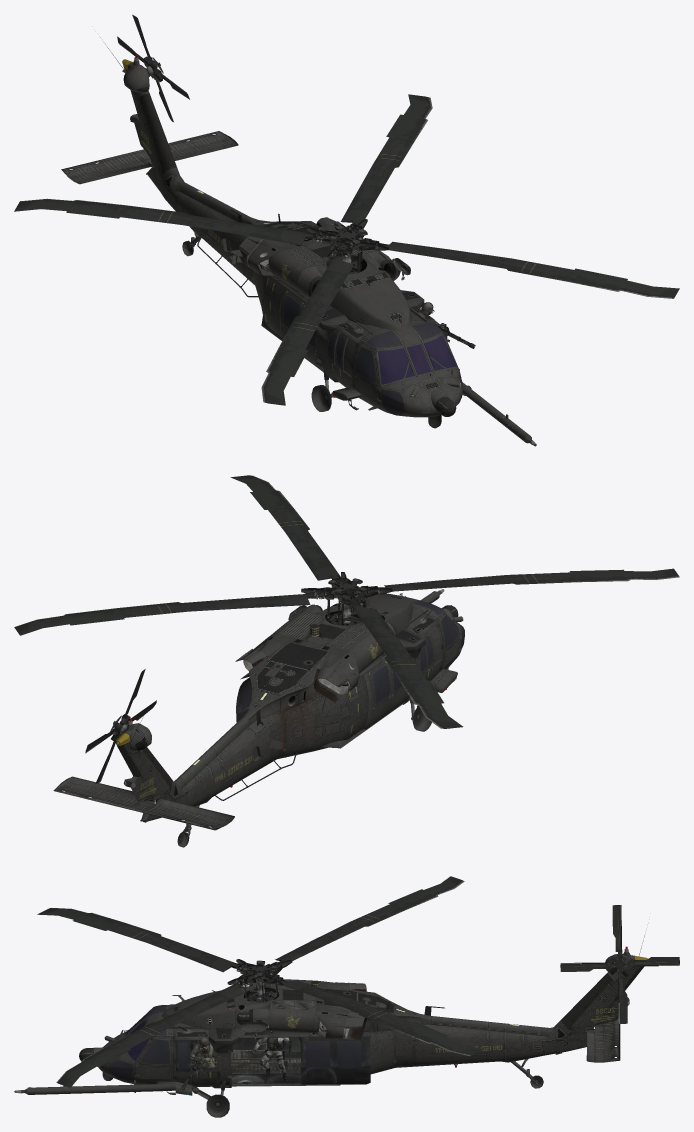
Rendered from mh-60l-blackhawk.glb.
3 renders of one model, top to bottom at view 1: azimuth 30°, elevation 25°; view 2: azimuth 150°, elevation 25°; view 3: azimuth 270°, elevation 25°, orthographic. The views are drawn at different scales.
Parts seen in each view (by area): view 1: crew_Chopper Body_0; view 2: crew_Chopper Body_0; view 3: crew_Chopper Body_0, mg_Gun_0, crew_Body-2_0.
Boxes of the visible parts, x1,y1,x2,y2 form: crew_Chopper Body_0: [14, 14, 679, 446]; crew_Chopper Body_0: [14, 475, 679, 847]; crew_Chopper Body_0: [14, 876, 679, 1117]; mg_Gun_0: [148, 1026, 370, 1090]; crew_Body-2_0: [251, 1037, 292, 1080].
Size of the model in its own units: 12.27 by 5.66 by 18.23.
6 materials, 6 textured.
